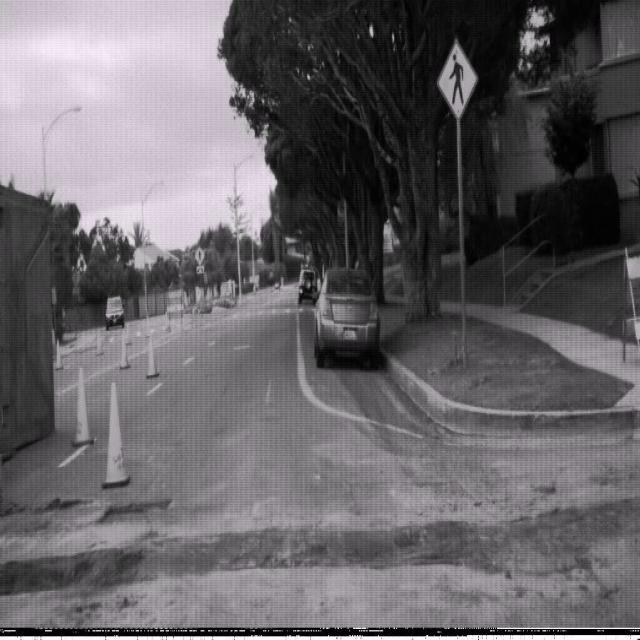pedestrianCrossing: (436, 37, 479, 120), (194, 245, 205, 267)
